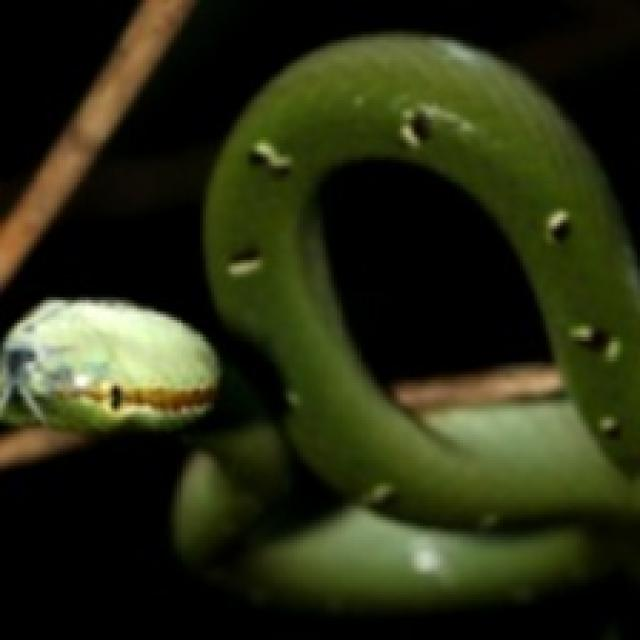north ph temple pitviper: (177, 34, 637, 609), (0, 297, 217, 429)
